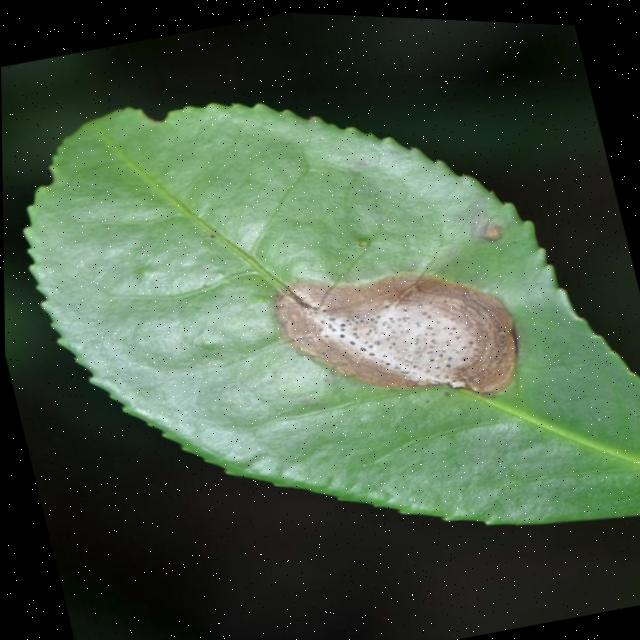Tea cloud leaf blight: (268, 233, 528, 430)
